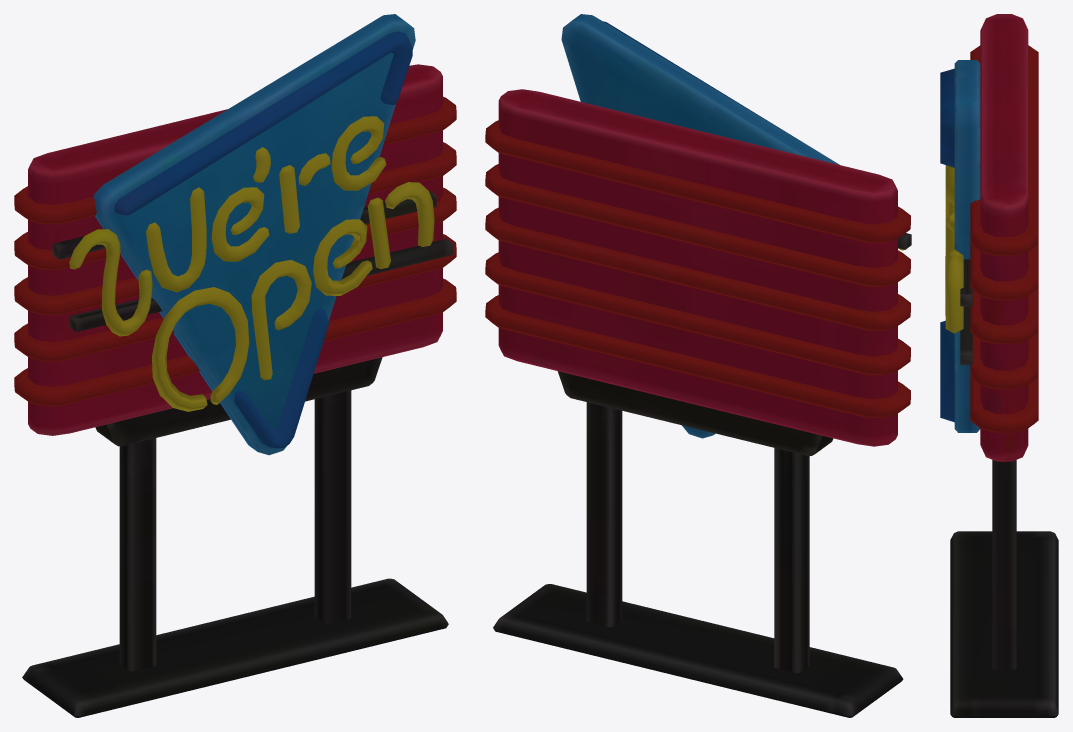
3 views of the same model, side by side, from view 1: azimuth 30°, elevation 25°; view 2: azimuth 150°, elevation 25°; view 3: azimuth 270°, elevation 25° (orthographic). The views are drawn at different scales.
Bounding box in the file's own units: 18.12 × 24.73 × 4.42.
1 material, 1 textured.
